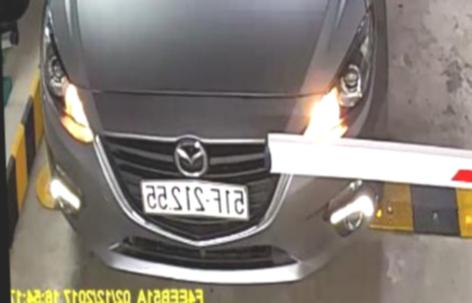License_Plate: (141, 181, 250, 219)
